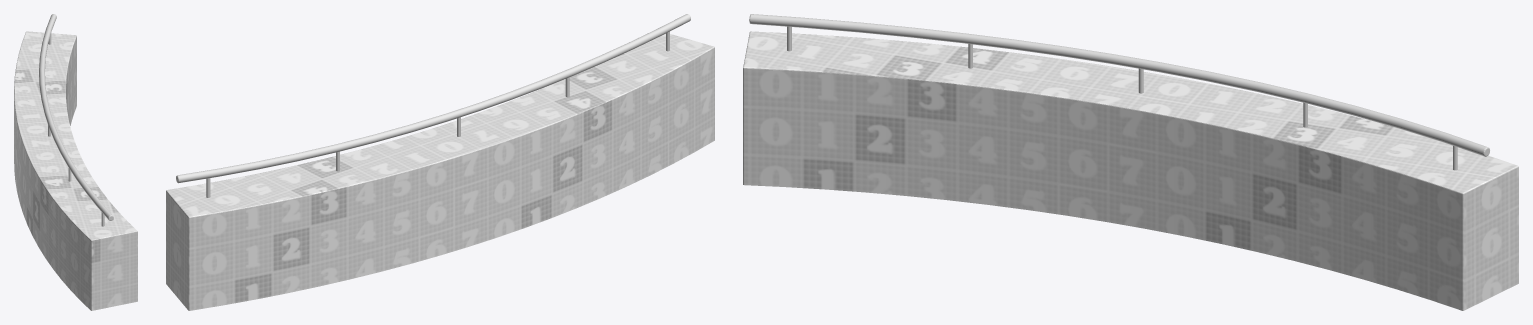
File: DanceFloor01Parapet01.FBX
3 renders of one model, left to right at view 1: azimuth 30°, elevation 25°; view 2: azimuth 150°, elevation 25°; view 3: azimuth 270°, elevation 25°, orthographic. The views are drawn at different scales.
Parts seen in each view (by area): view 1: DanceFloor01Parapet01; view 2: DanceFloor01Parapet01; view 3: DanceFloor01Parapet01.
Part boxes in pixels (x1=…): DanceFloor01Parapet01: x1=14, y1=14, x2=137, y2=310; DanceFloor01Parapet01: x1=166, y1=14, x2=714, y2=310; DanceFloor01Parapet01: x1=743, y1=14, x2=1518, y2=310.
Size of the model in its own units: 266 by 115 by 538.
